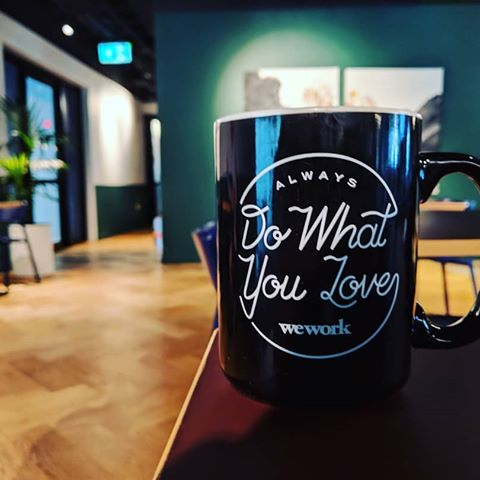wework: (277, 317, 354, 337)
